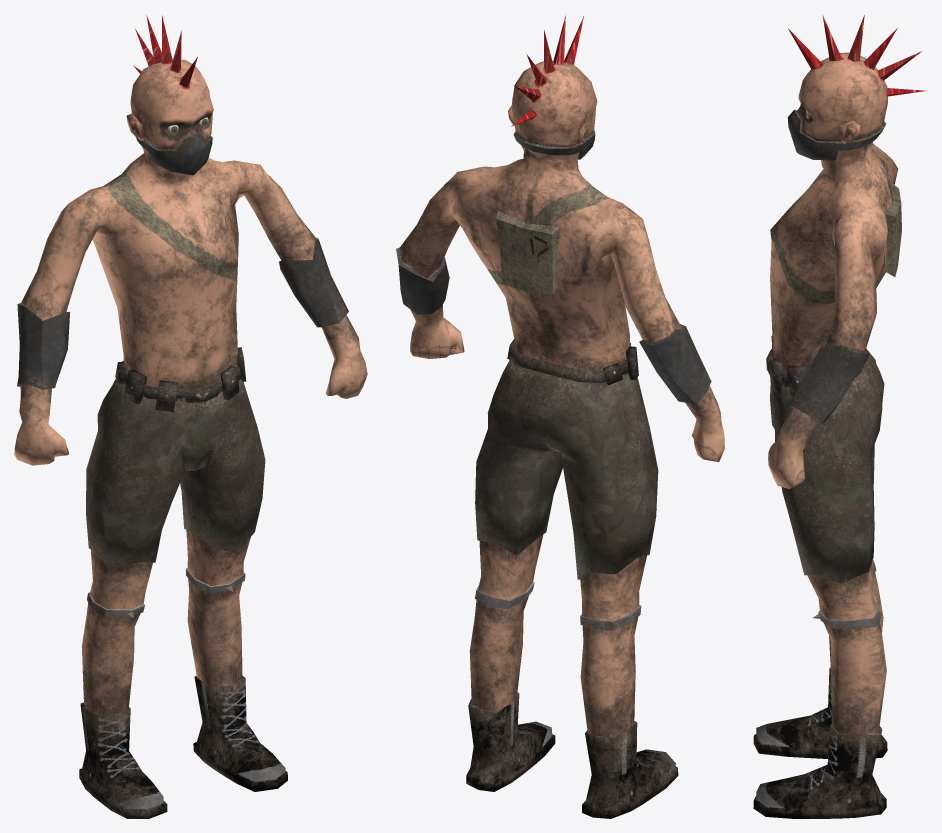
Rendered from Anim_idle_npc2.0037.obj.
3 renders of one model, left to right at view 1: azimuth 30°, elevation 25°; view 2: azimuth 150°, elevation 25°; view 3: azimuth 270°, elevation 25°, orthographic.
Parts seen in each view (by area): view 1: polySurface1; view 2: polySurface1; view 3: polySurface1.
Boxes of the visible parts, x1,y1,x2,y2 form: polySurface1: (14, 15, 367, 818); polySurface1: (396, 15, 724, 818); polySurface1: (753, 15, 926, 818).
Size of the model in its own units: 4.66 by 10.18 by 2.09.
